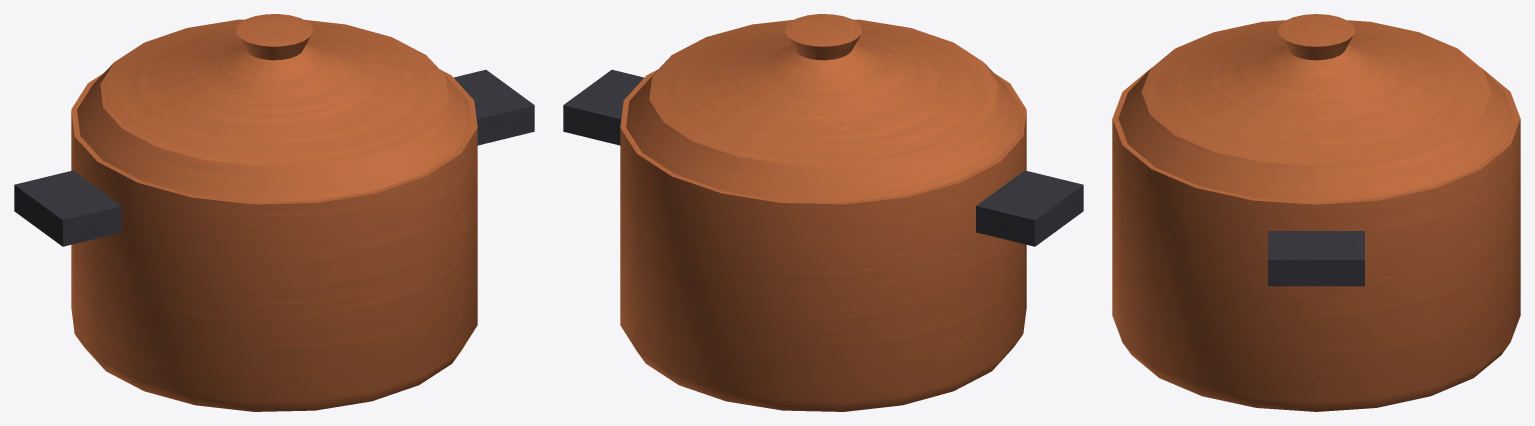
The model's file is SM_Pot_Copper.fbx.
3 views of the same model, side by side, from view 1: azimuth 30°, elevation 25°; view 2: azimuth 150°, elevation 25°; view 3: azimuth 270°, elevation 25° (orthographic).
Visible parts, largest first — view 1: SM_Pot_Copper; view 2: SM_Pot_Copper; view 3: SM_Pot_Copper.
Boxes of the visible parts, x1,y1,x2,y2 form: SM_Pot_Copper: (14,14,534,411); SM_Pot_Copper: (563,14,1083,411); SM_Pot_Copper: (1112,14,1520,411).
Size of what is drawn, in the model's own units: 0.28 by 0.172 by 0.21.
Materials: 2 (2 with a texture image).
